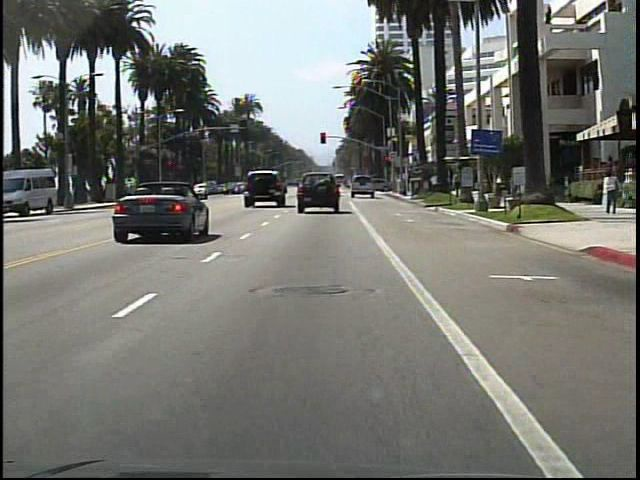person: (598, 168, 617, 217), (427, 171, 441, 196)
